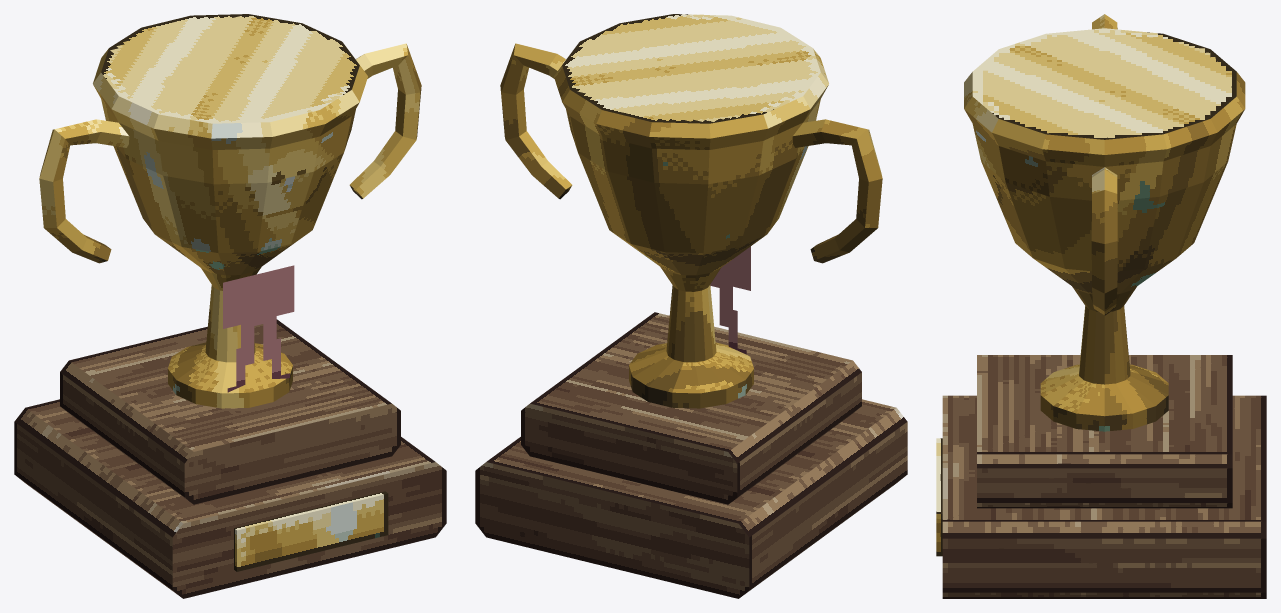
File: trophy.glb
3 views of the same model, side by side, from view 1: azimuth 30°, elevation 25°; view 2: azimuth 150°, elevation 25°; view 3: azimuth 270°, elevation 25° (orthographic). The views are drawn at different scales.
Parts seen in each view (by area): view 1: cup, plinth, plinth2, plaque, ribbon, handle-1, handle1; view 2: cup, plinth, plinth2, handle-1, handle1, ribbon; view 3: cup, plinth, plinth2, handle1, plaque.
Boxes of the visible parts, bbox=[...] form: cup: bbox=[93, 14, 367, 408]; plinth: bbox=[14, 399, 446, 598]; plinth2: bbox=[60, 319, 400, 504]; plaque: bbox=[234, 491, 388, 571]; ribbon: bbox=[223, 265, 294, 392]; handle-1: bbox=[39, 119, 129, 263]; handle1: bbox=[349, 43, 421, 199]; cup: bbox=[554, 14, 828, 408]; plinth: bbox=[475, 399, 907, 598]; plinth2: bbox=[521, 312, 861, 504]; handle-1: bbox=[792, 119, 882, 263]; handle1: bbox=[500, 43, 572, 199]; ribbon: bbox=[710, 246, 750, 354]; cup: bbox=[964, 28, 1245, 431]; plinth: bbox=[942, 395, 1266, 598]; plinth2: bbox=[977, 355, 1232, 508]; handle1: bbox=[1091, 167, 1117, 315]; plaque: bbox=[936, 438, 942, 556].
Bounding box in the file's own units: 0.6627 × 0.7313 × 0.4844.
Materials: 2 (2 with a texture image).
